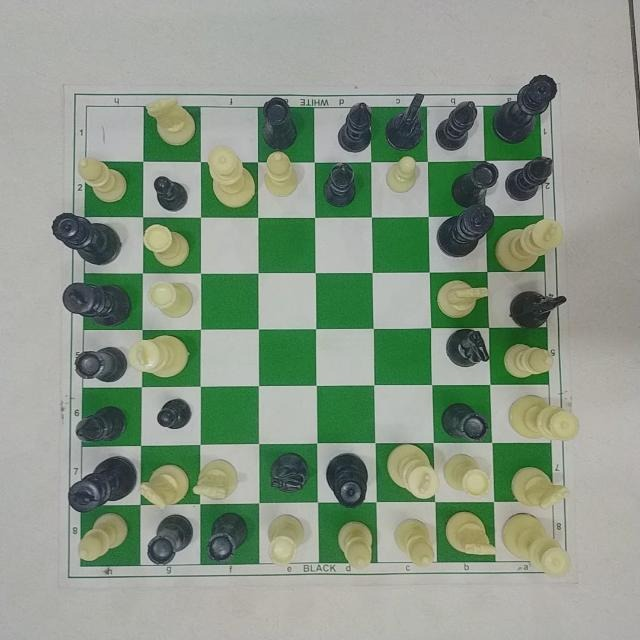black-bishop: (72, 400, 126, 450), (434, 92, 479, 150), (504, 152, 556, 202), (336, 100, 374, 154), (320, 161, 356, 213)
black-king: (63, 451, 137, 515), (62, 277, 134, 329), (435, 203, 492, 258)
black-knight: (382, 86, 432, 151), (507, 286, 569, 329), (266, 451, 312, 499), (441, 326, 490, 368)
black-pawn: (154, 171, 194, 211), (157, 394, 197, 431)
black-queen: (491, 71, 560, 145), (48, 214, 125, 270), (324, 447, 370, 508)
black-rook: (148, 509, 195, 567), (446, 159, 500, 207), (205, 506, 249, 564), (72, 342, 126, 386), (440, 398, 488, 444), (261, 91, 301, 146)
white-bishop: (76, 508, 131, 568), (76, 153, 130, 202), (498, 336, 556, 381), (394, 518, 439, 573), (335, 516, 374, 570), (264, 150, 300, 200)
white-king: (496, 211, 562, 275), (128, 328, 193, 384), (385, 438, 440, 503)
white-knight: (146, 96, 198, 152), (444, 506, 496, 562), (511, 463, 566, 513), (433, 274, 491, 321), (141, 459, 191, 509), (193, 451, 239, 499)
white-pawn: (384, 155, 418, 196)
white-queen: (499, 507, 574, 579), (505, 390, 583, 445), (206, 148, 258, 210)
white-rook: (141, 217, 193, 269), (267, 509, 307, 570), (145, 275, 194, 320), (443, 449, 487, 498)
